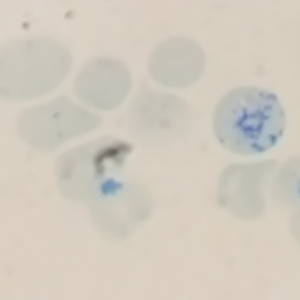aggregate reticulocyte: (209, 84, 290, 158)
erythrocyte: (52, 132, 134, 203), (1, 34, 75, 105), (212, 155, 283, 223), (87, 174, 154, 238), (70, 57, 134, 113), (145, 36, 209, 91)
punctate reticulocyte: (13, 95, 105, 154)
